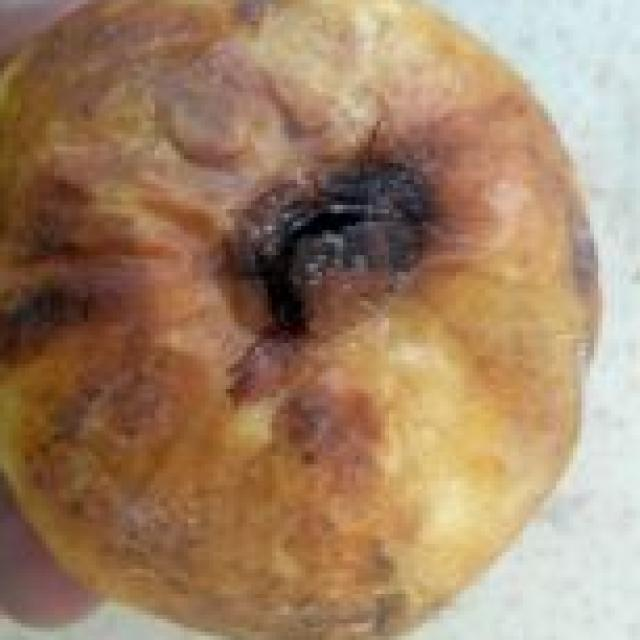Bad_Guava 0 day: (0, 0, 600, 640)
